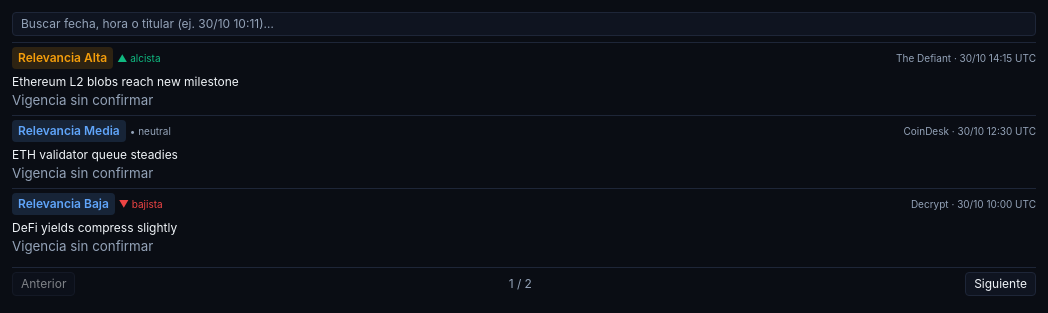
Scenario: TerminalNewsPanel › shows 3 news items per page with their relevance grade, paginates, and searches by date/time
This screenshot has width=1048, height=313.
expect the number of list items is 3: met, box [12, 42, 1036, 115]; [12, 115, 1036, 188]; [12, 188, 1036, 261]
expect the text "Relevancia Alta" is shown: met, box [12, 47, 113, 69]
Click the button "Siguiente" at (1001, 284), box [965, 272, 1036, 296]
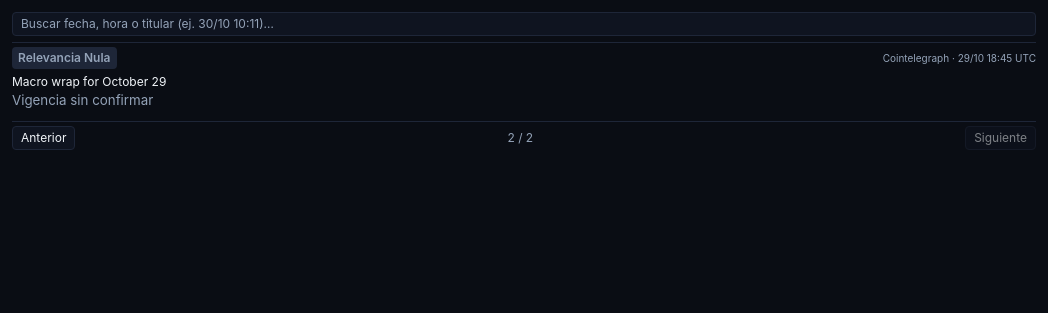
expect the number of list items is 1: met, box [12, 42, 1036, 115]
expect the text "Relevancia Nula" is shown: met, box [12, 47, 116, 69]
expect the text "29/10 18:45" is shown: met, box [958, 52, 1012, 64]
Type "30/10 14:15" into the search field named "Buscar noticia por fecha u hora" at (524, 24), box [12, 12, 1036, 36]
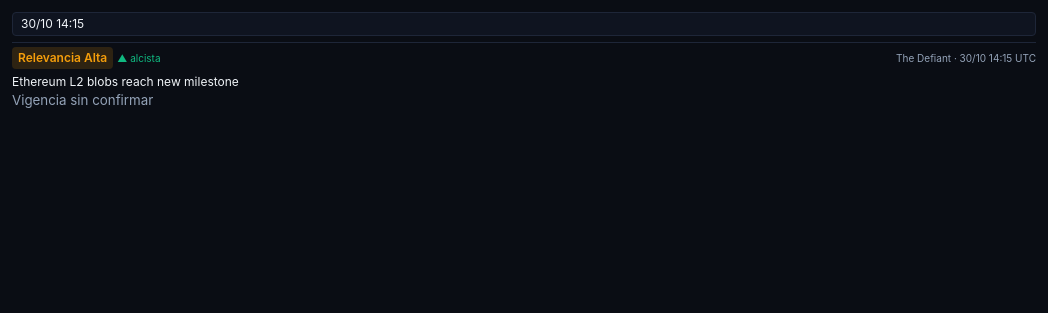
expect the number of list items is 1: met, box [12, 42, 1036, 115]
expect the link "Ethereum L2 blobs reach new milestone" is shown: met, box [12, 74, 239, 89]
